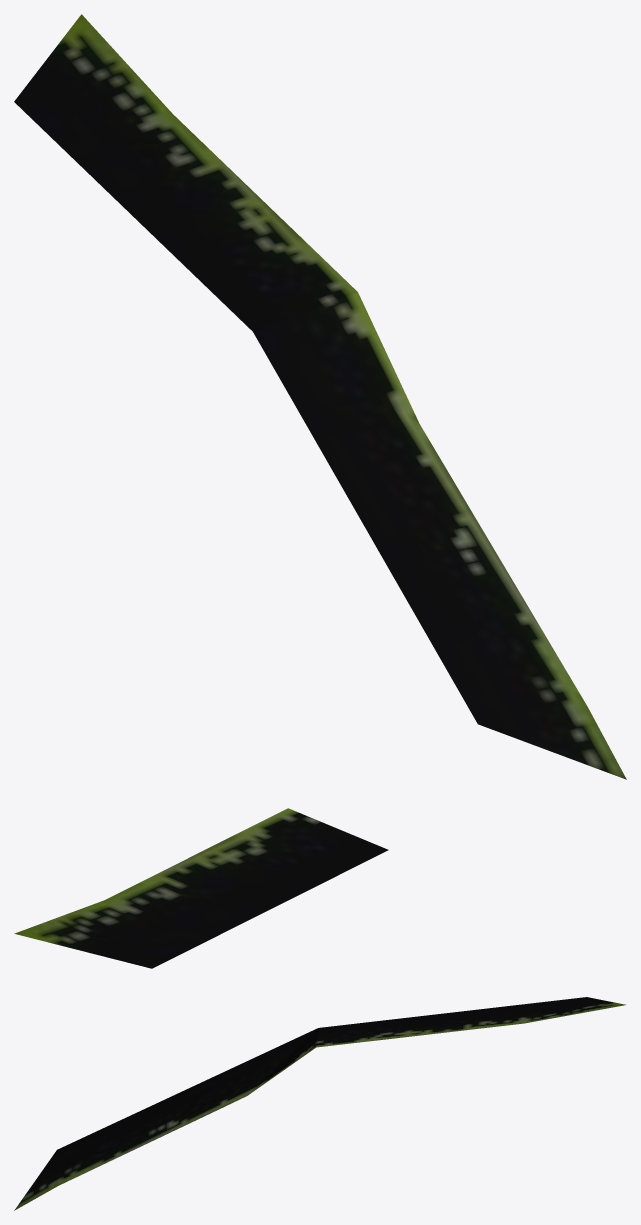
3 views of the same model, one above another, from view 1: azimuth 30°, elevation 25°; view 2: azimuth 150°, elevation 25°; view 3: azimuth 270°, elevation 25° (orthographic). The views are drawn at different scales.
Bounding box in the file's own units: 0.1847 × 0.5837 × 1.57.
Materials: 1 (1 with a texture image).
